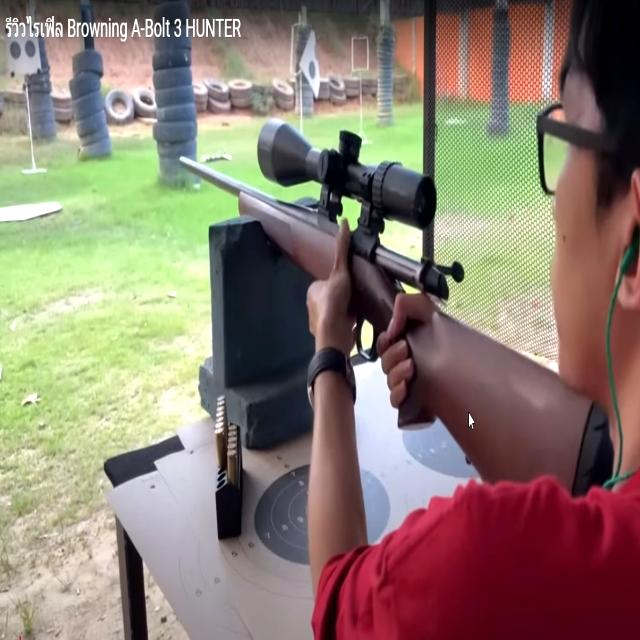rifle: (172, 101, 612, 541)
